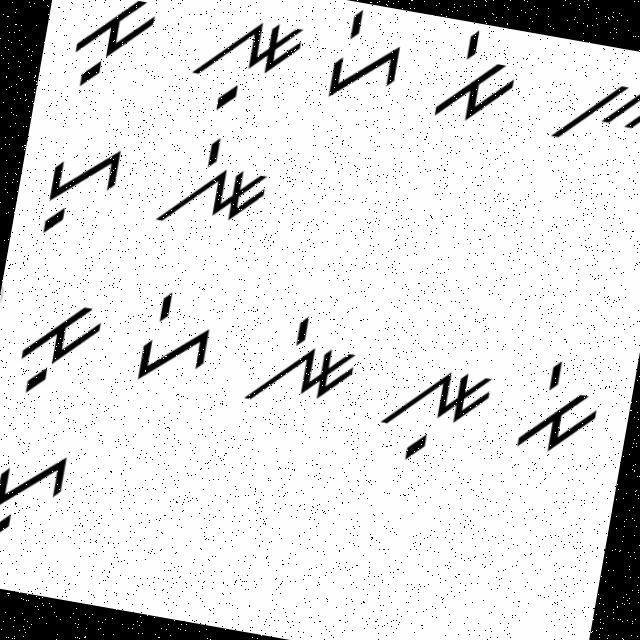he: (125, 286, 222, 402), (321, 4, 412, 117)
hu: (29, 128, 128, 245), (0, 440, 79, 555)
mbe: (421, 19, 531, 144), (509, 350, 612, 462)
mbu: (5, 291, 115, 408), (63, 0, 170, 99)
nde: (142, 120, 284, 251), (240, 296, 370, 423)
ndu: (366, 347, 500, 472), (178, 5, 310, 124)
